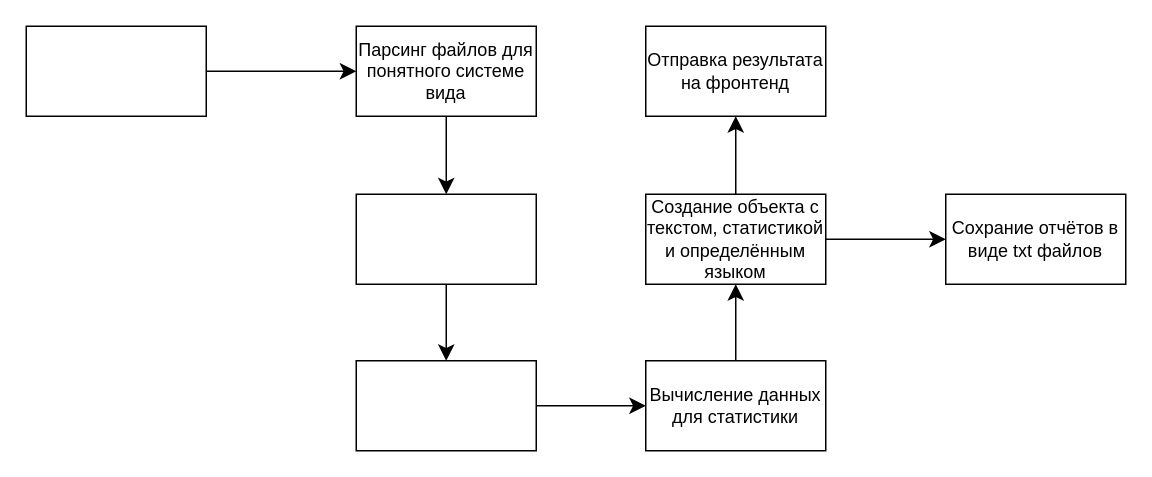
Image size: 1152x477. Some labels were removed from this diagram. Each missing label, with the centre of its shape:
Загрузка файлов на сервер: point (115, 70)
Определение языка: point (445, 405)
Отправка извлечённых текстов в ApcheTika: point (445, 238)
